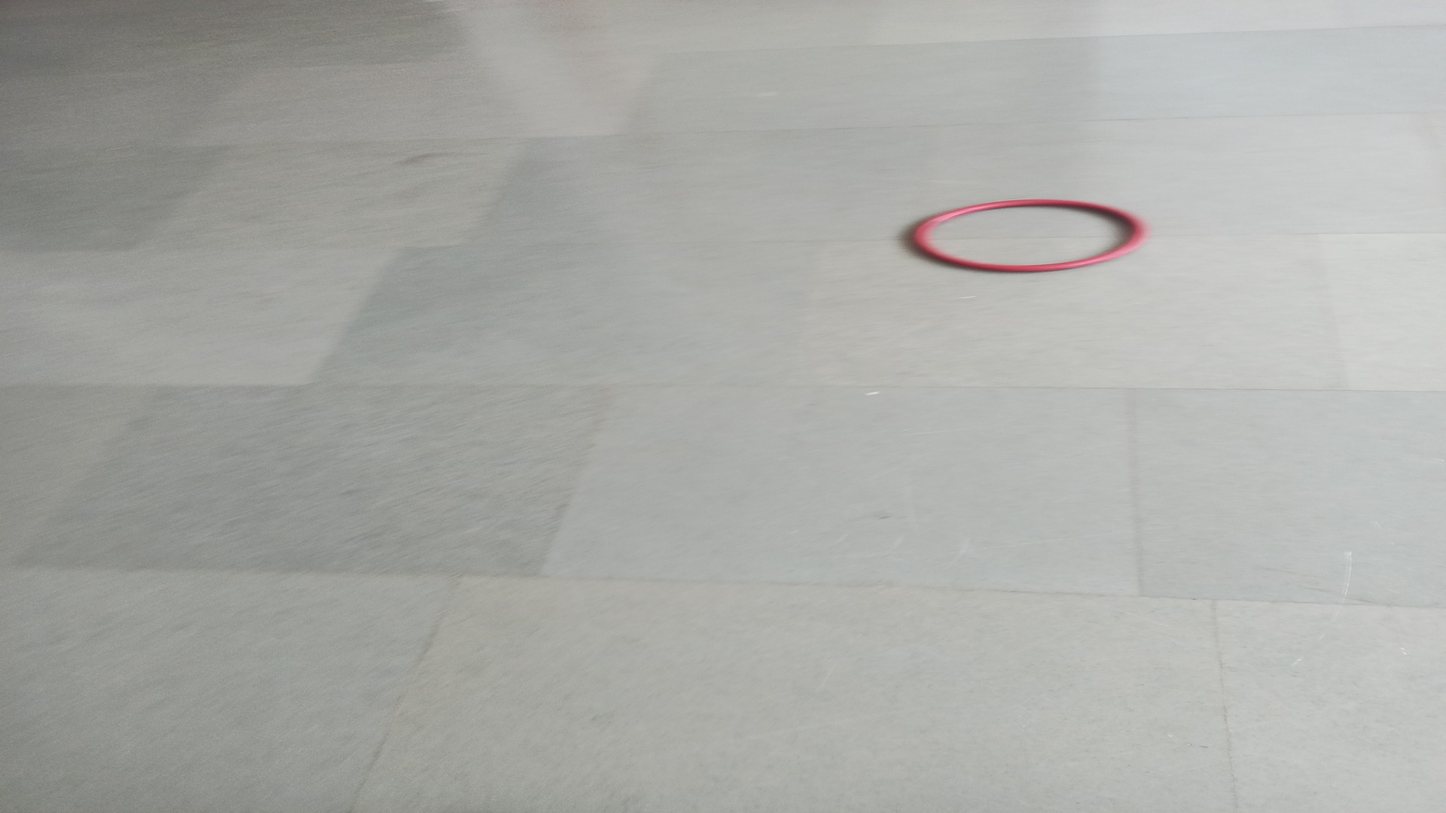Red ring: (911, 198, 1149, 275)
